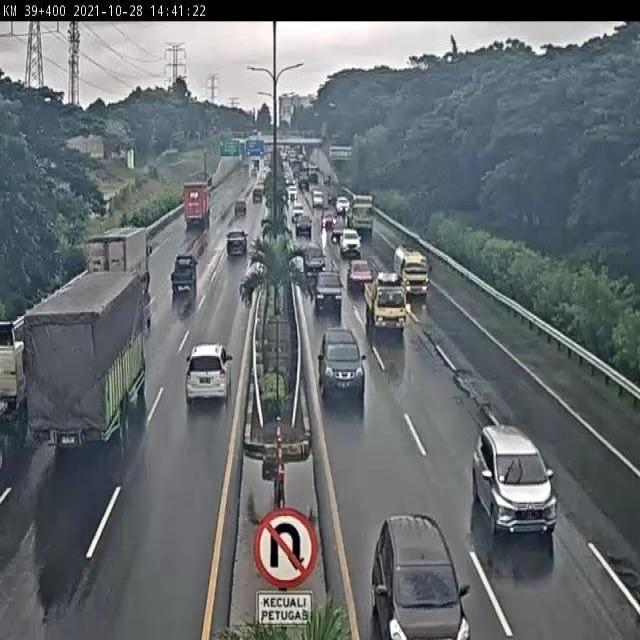car: (471, 426, 557, 538), (317, 329, 366, 403), (184, 341, 232, 403), (310, 269, 343, 312), (169, 254, 198, 294), (347, 260, 373, 292), (302, 244, 326, 275), (226, 230, 248, 258)
mid truck: (22, 270, 151, 450), (83, 226, 152, 302)
truck-m-: (363, 272, 407, 336), (393, 244, 430, 297)
